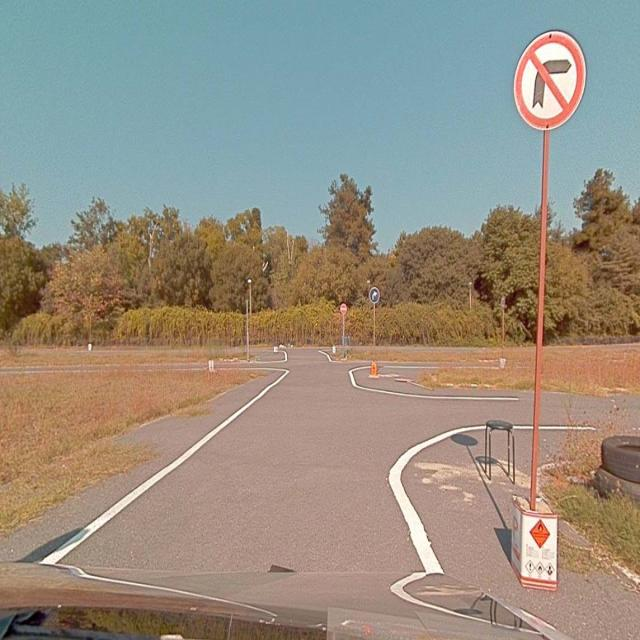girisyok: (341, 304, 347, 315)
sag: (370, 287, 380, 301)
sagadonulmez: (514, 33, 584, 128)
